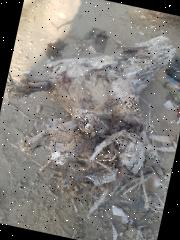organic: (28, 20, 180, 200)
